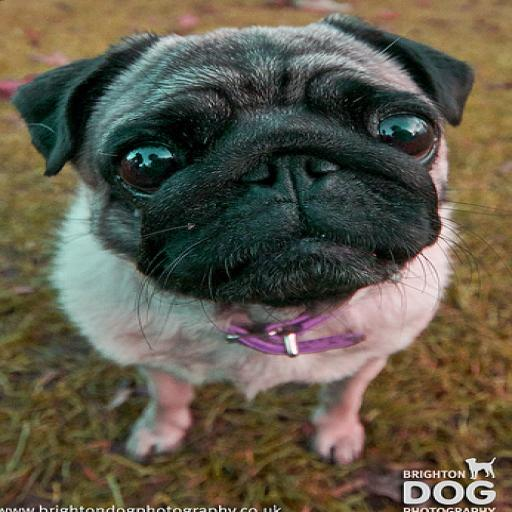dog_face: (3, 14, 462, 297)
